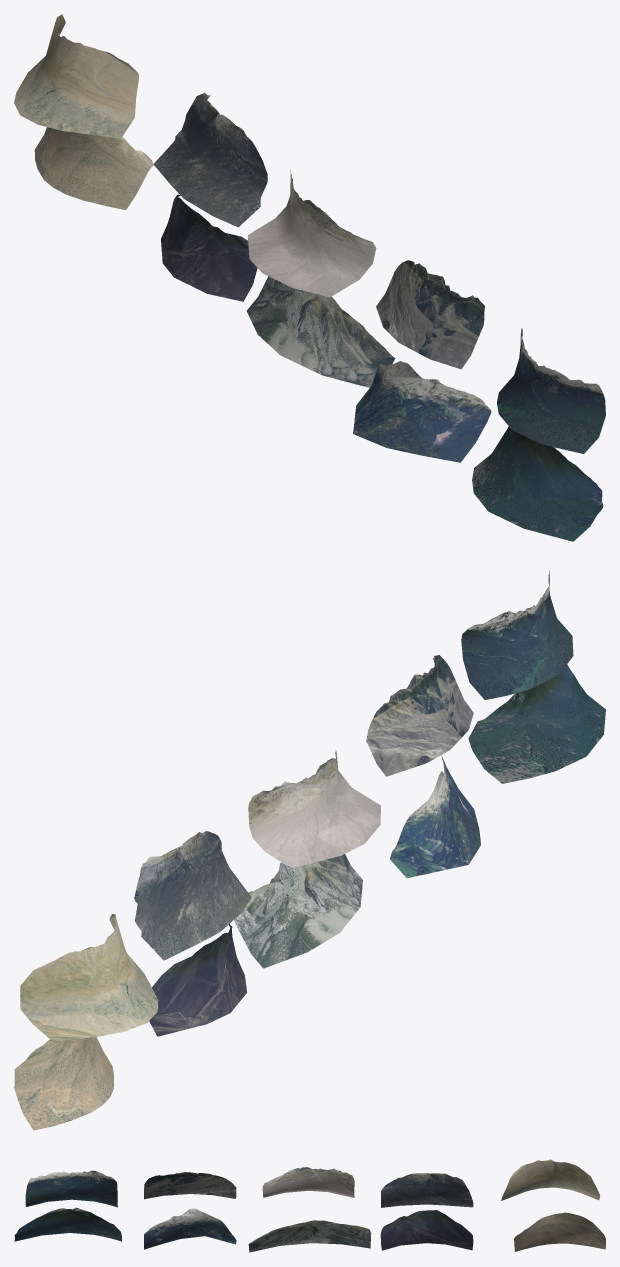
File: MountainMesh.FBX
The picture shows the model from 3 angles, top to bottom: view 1: azimuth 30°, elevation 25°; view 2: azimuth 150°, elevation 25°; view 3: azimuth 270°, elevation 25°; orthographic projection. The views are drawn at different scales.
Parts seen in each view (by area): view 1: Line009, Line001, Line007, Object004, Line005, Object003, Object002, Object001, Line002, Line003; view 2: Line001, Line009, Object004, Object003, Line005, Object001, Object002, Line002, Line003, Line007; view 3: Object001, Line003, Object004, Line005, Line001, Line002, Line009, Line007, Object003, Object002.
Boxes of the visible parts, x1,y1,x2,y2 form: Line009: (472, 426, 603, 541); Line001: (14, 14, 139, 138); Line007: (353, 361, 491, 462); Object004: (153, 92, 267, 227); Line005: (246, 276, 395, 387); Object003: (247, 170, 376, 297); Object002: (376, 260, 484, 369); Object001: (497, 328, 605, 453); Line002: (34, 127, 153, 209); Line003: (161, 194, 257, 301); Line001: (20, 914, 158, 1041); Line009: (468, 664, 605, 783); Object004: (134, 831, 251, 960); Object003: (248, 750, 380, 867); Line005: (234, 854, 362, 968); Object001: (461, 570, 573, 699); Object002: (366, 655, 473, 776); Line002: (14, 1036, 113, 1130); Line003: (149, 923, 246, 1036); Line007: (390, 755, 480, 878); Object001: (25, 1170, 117, 1207); Line003: (380, 1210, 473, 1250); Object004: (381, 1173, 473, 1207); Line005: (248, 1220, 371, 1252); Line001: (501, 1159, 600, 1200); Line002: (514, 1212, 605, 1251); Line009: (14, 1207, 121, 1241); Line007: (144, 1208, 236, 1249); Object003: (262, 1167, 354, 1197); Object002: (144, 1172, 236, 1199).
Size of the model in its own units: 133 by 203 by 1273.
